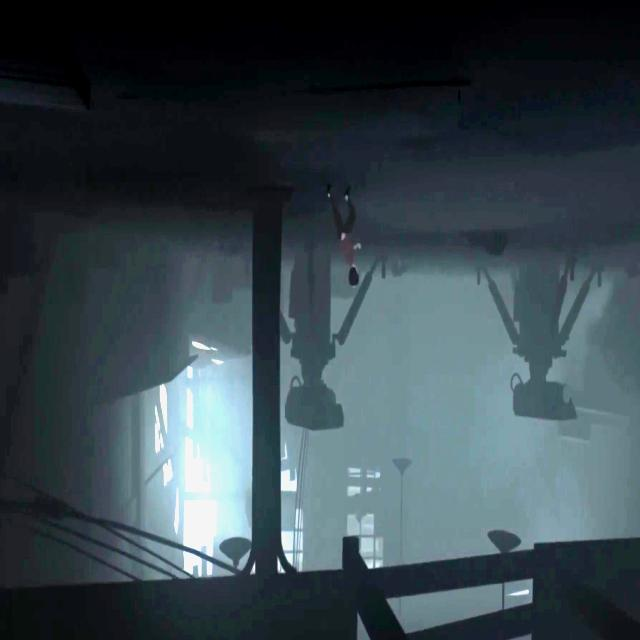boy: (328, 185, 361, 286)
